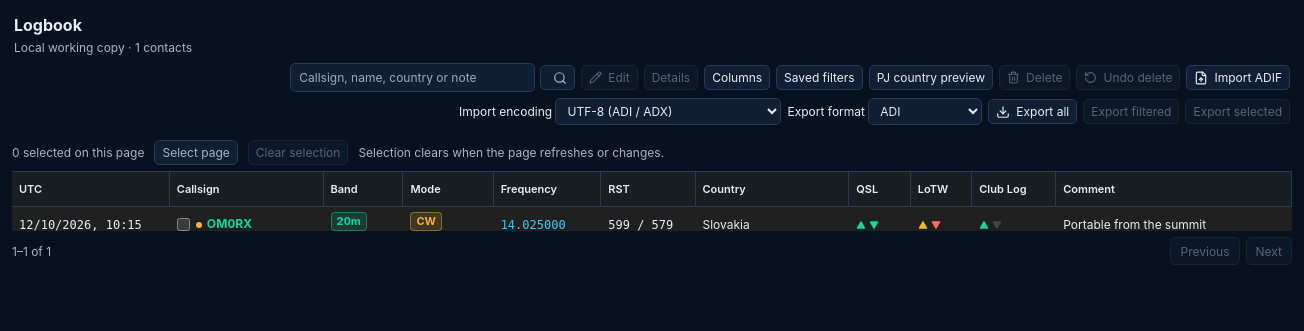
logbook read recovery › clears earlier search results and offers retry when the new query fails
The width and height of the screenshot is (1304, 331).
Click the text "OM0RX" at coordinates (652, 224), box left=12, top=207, right=1292, bottom=242
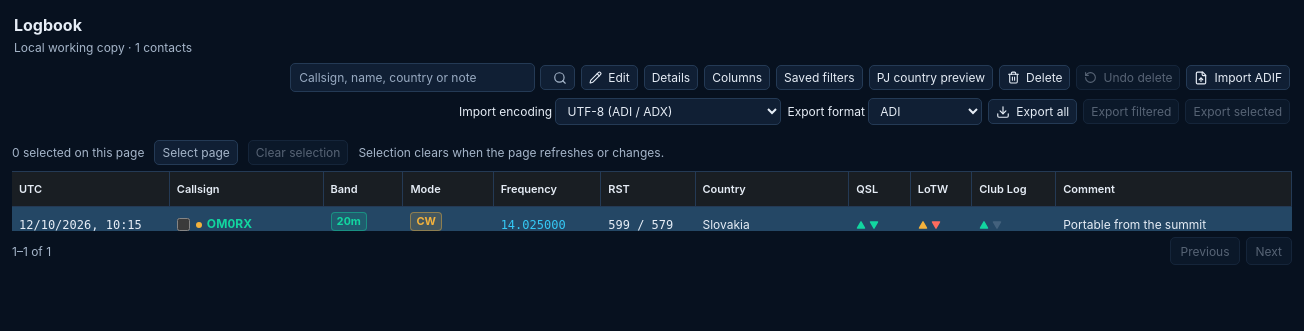
Type "VK8AA" into the field named "Search logbook" at coordinates (413, 78), box left=290, top=63, right=535, bottom=92
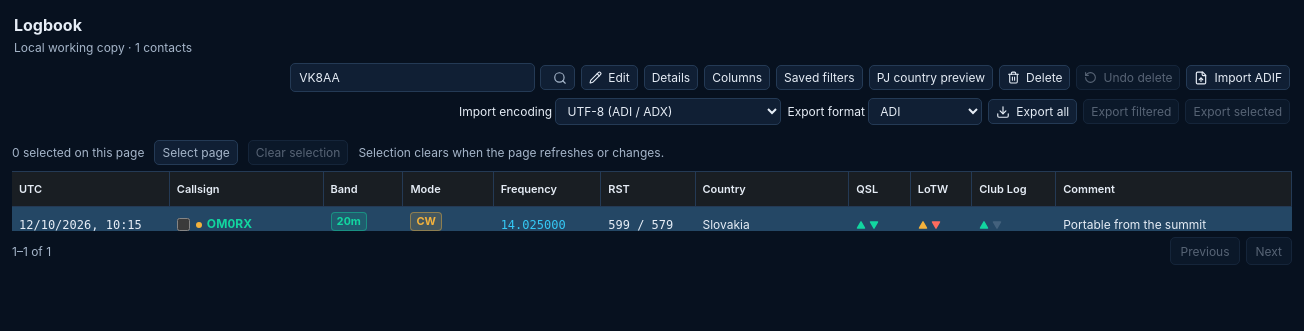
Click the button named "Search" at coordinates (558, 78), box left=540, top=65, right=575, bottom=90
Wait 7850 ms
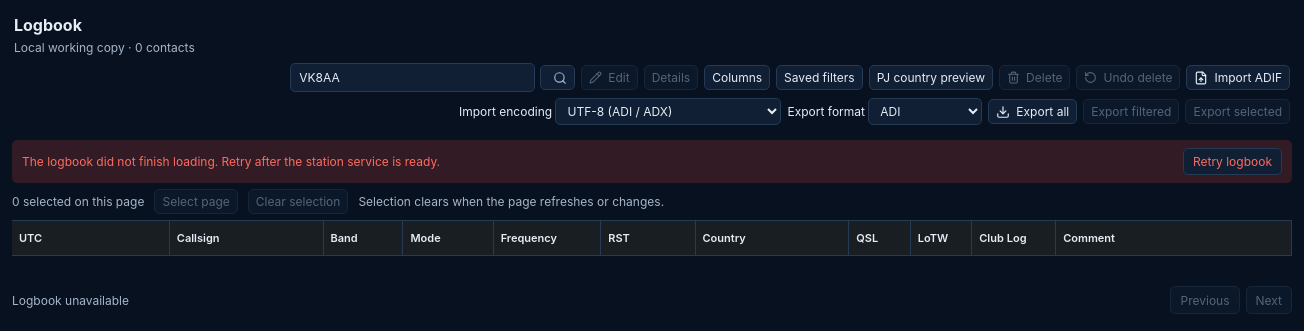
Result: the text "OM0RX" is gone
Result: the message shows "did not finish loading" at left=22, top=154, right=440, bottom=169
Result: the button "Edit" is disabled at left=581, top=65, right=638, bottom=90
Click the button "Retry logbook" at coordinates (1232, 162), box left=1183, top=148, right=1282, bottom=175
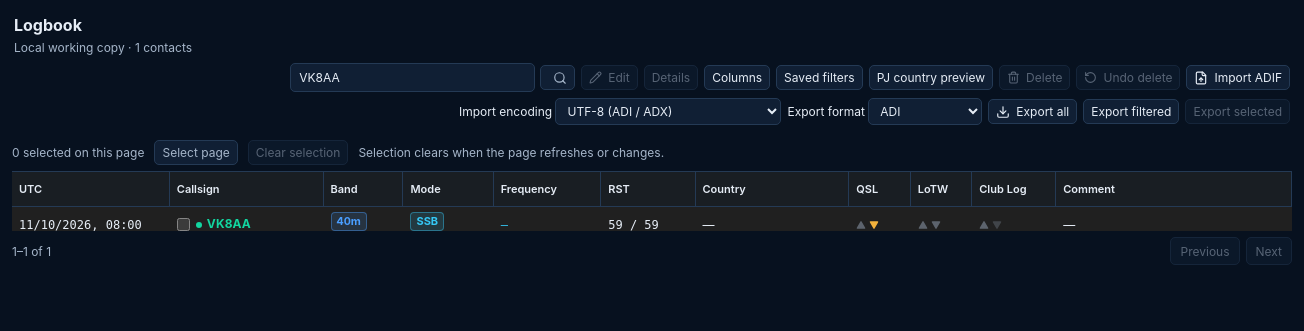
Expected: the text "OM0RX" is not shown
Result: the text "VK8AA" is shown at left=170, top=207, right=324, bottom=231
Result: the message is gone
